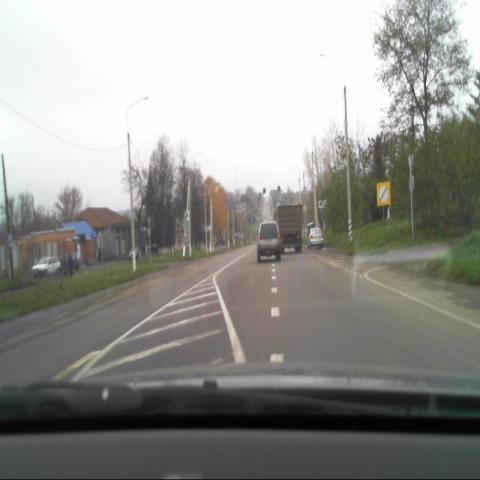3_31: (376, 182, 391, 206)
